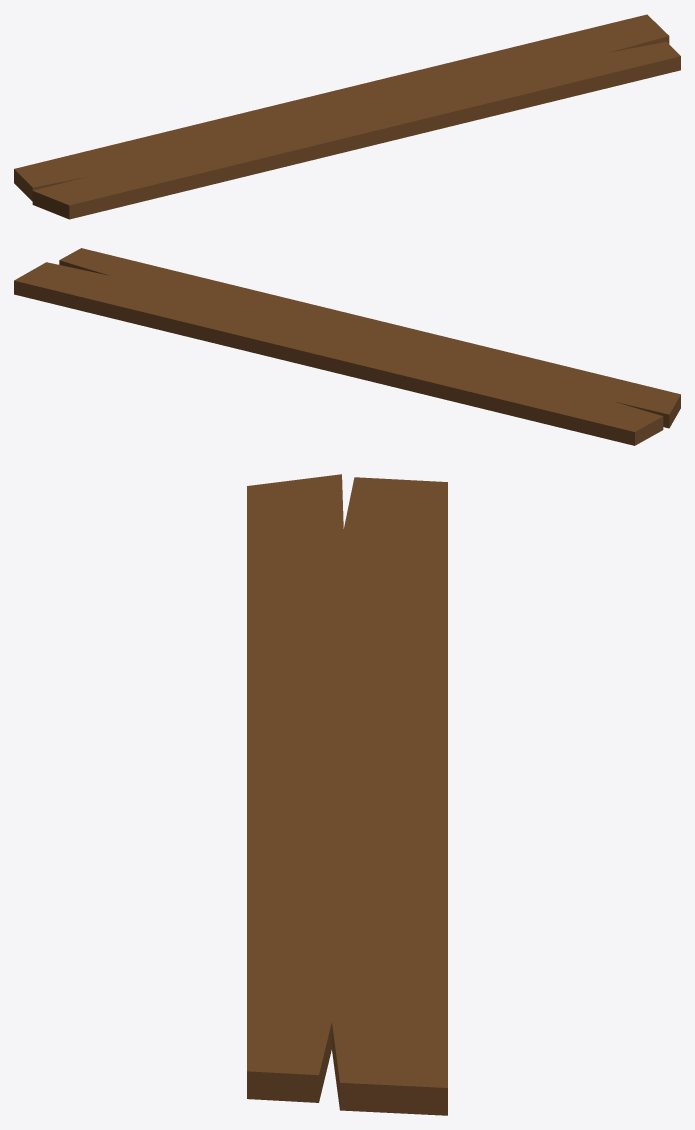
The model's file is Plank_01.fbx.
The picture shows the model from 3 angles, top to bottom: view 1: azimuth 30°, elevation 25°; view 2: azimuth 150°, elevation 25°; view 3: azimuth 270°, elevation 25°; orthographic projection. The views are drawn at different scales.
Parts seen in each view (by area): view 1: Plank_01; view 2: Plank_01; view 3: Plank_01.
Boxes of the visible parts, <box> form: Plank_01: <box>14,14,680,219</box>; Plank_01: <box>14,248,680,445</box>; Plank_01: <box>247,474,447,1115</box>.
Size of the model in its own units: 179 by 3.77 by 24.71.
